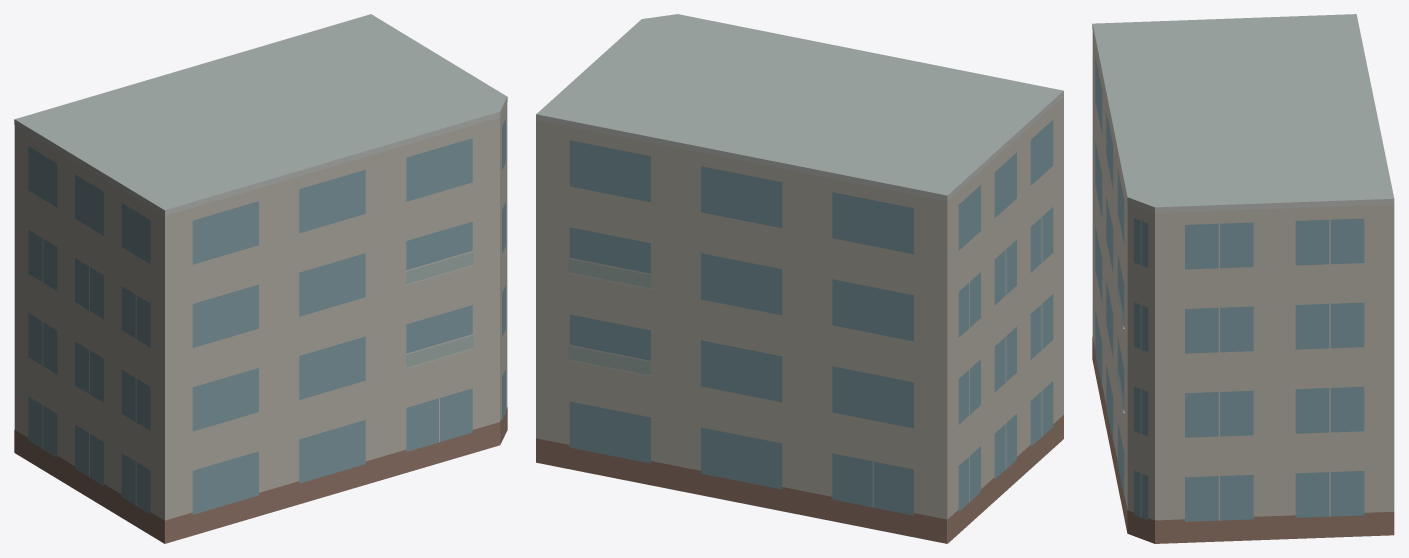
File: survey-upis-32750109.glb
3 views of the same model, side by side, from view 1: azimuth 30°, elevation 25°; view 2: azimuth 150°, elevation 25°; view 3: azimuth 270°, elevation 25° (orthographic). The views are drawn at different scales.
Parts seen in each view (by area): view 1: survey-upis-32750109.tmp; view 2: survey-upis-32750109.tmp; view 3: survey-upis-32750109.tmp.
Boxes of the visible parts, x1,y1,x2,y2 form: survey-upis-32750109.tmp: [14, 14, 507, 543]; survey-upis-32750109.tmp: [536, 14, 1063, 543]; survey-upis-32750109.tmp: [1092, 14, 1394, 543].
Size of the model in its own units: 17.71 by 14.36 by 11.68.
